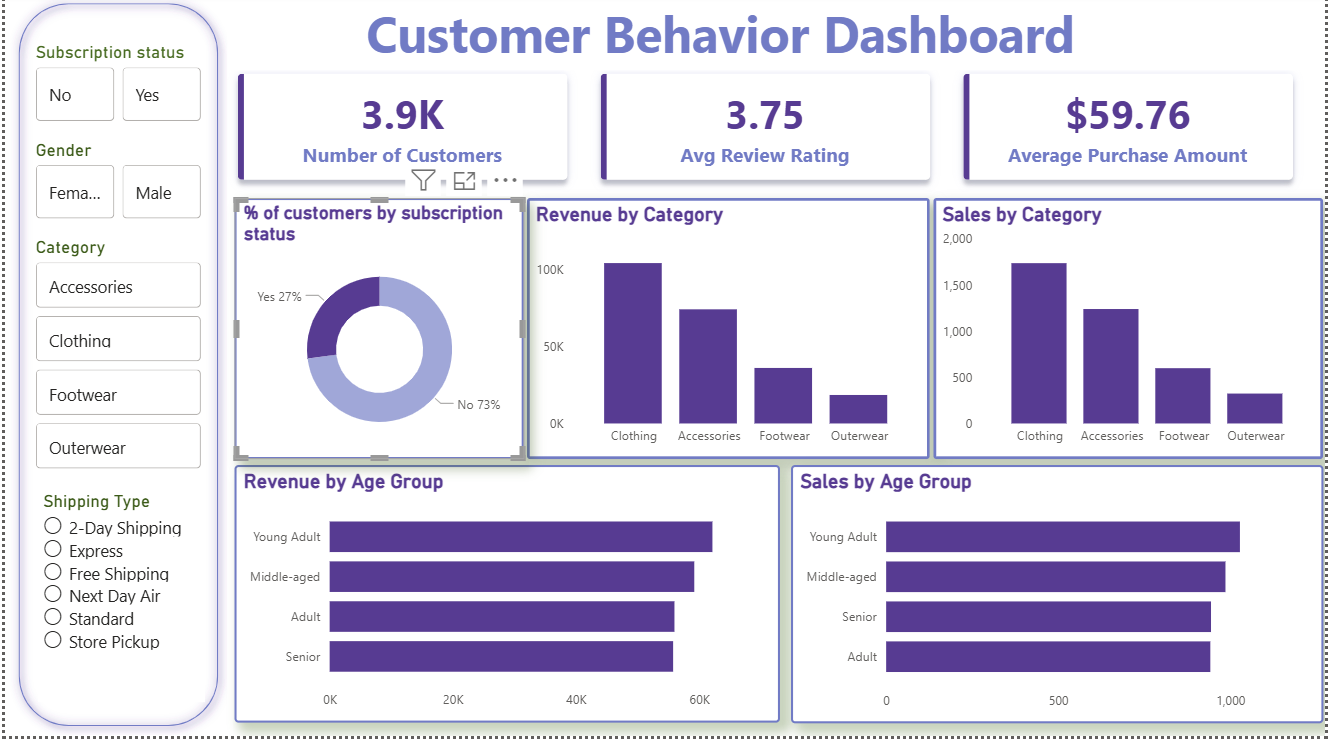

Layout of this report page (visuals, bound fields, positions):
{"tool":"powerbi","page":{"name":"Page 1","canvas":[1280,720],"ordinal":0},"visuals":[{"type":"cardVisual","fields":{"Data":["customer.Number of Customers","customer.Avg Review Rating","customer.Average Purchase Amount"]},"box":[196.5,48,1082.9,161.6],"z":0},{"type":"textbox","box":[109.2,0,1170.3,74.2],"z":1000},{"type":"donutChart","title":"% of customers by subscription status","fields":{"Y":["CountNonNull(customer.customer_id)"],"Category":["customer.subscription_status"]},"box":[222.3,197.6,280.9,253.1],"z":2000},{"type":"clusteredColumnChart","title":"Revenue by Category","fields":{"Y":["Sum(customer.purchase_amount)"],"Category":["customer.category"]},"box":[506.2,197.6,390.5,253.1],"z":3000},{"type":"clusteredColumnChart","title":"Sales by Category","fields":{"Category":["customer.category"],"Y":["CountNonNull(customer.customer_id)"]},"box":[901.4,197.6,378.1,253.1],"z":4000},{"type":"shape","box":[4.6,0,211.4,719.2],"z":5000},{"type":"advancedSlicerVisual","fields":{"Values":["customer.subscription_status"]},"box":[24.7,46.6,171.8,81.5],"z":6000},{"type":"advancedSlicerVisual","fields":{"Values":["customer.gender"]},"box":[24.7,141.2,171.8,81.5],"z":7000},{"type":"advancedSlicerVisual","fields":{"Values":["customer.category"]},"box":[24.7,235.8,170.3,231.4],"z":8000},{"type":"listSlicer","fields":{"Values":["customer.shipping_type"]},"box":[32.4,481.5,162.1,205.3],"z":9000},{"type":"clusteredBarChart","title":"Revenue by Age Group","fields":{"Y":["Sum(customer.purchase_amount)"],"Category":["customer.age_group"]},"box":[222.3,456.9,529.4,250],"z":10000},{"type":"clusteredBarChart","title":"Sales by Age Group","fields":{"Category":["customer.age_group"],"Y":["CountNonNull(customer.customer_id)"]},"box":[762.7,457,516.7,250.4],"z":11000}]}

Visuals, with their boxes in screenshot pixels (x1, y1, x2, y2), scaled from the page's 1280x720 canvas onto the 1328x740 screenshot:
cardVisual - customer.Number of Customers x customer.Avg Review Rating: 204 49 1327 215
textbox: 113 0 1327 76
"% of customers by subscription status" donutChart: 231 203 522 463
"Revenue by Category" clusteredColumnChart: 525 203 930 463
"Sales by Category" clusteredColumnChart: 935 203 1327 463
shape: 5 0 224 739
advancedSlicerVisual - customer.subscription_status: 26 48 204 132
advancedSlicerVisual - customer.gender: 26 145 204 229
advancedSlicerVisual - customer.category: 26 242 202 480
listSlicer - customer.shipping_type: 34 495 202 706
"Revenue by Age Group" clusteredBarChart: 231 470 780 727
"Sales by Age Group" clusteredBarChart: 791 470 1327 727
